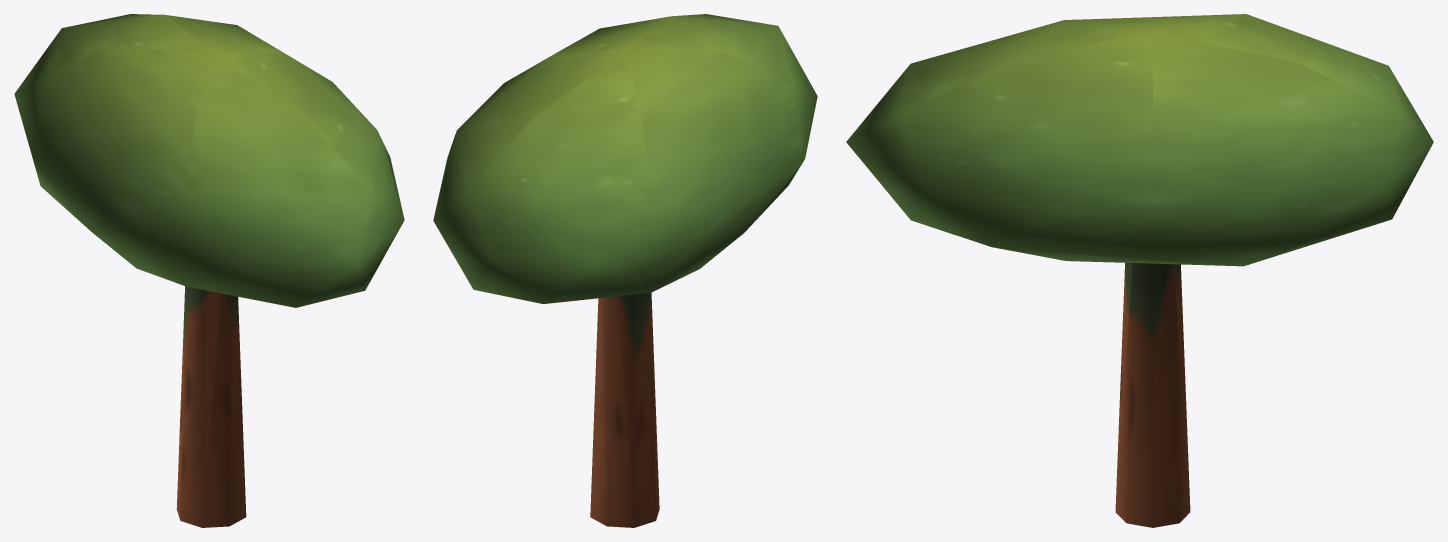
The model's file is nature_leaf_tree.3.glb.
3 renders of one model, left to right at view 1: azimuth 30°, elevation 25°; view 2: azimuth 150°, elevation 25°; view 3: azimuth 270°, elevation 25°, orthographic. The views are drawn at different scales.
Parts seen in each view (by area): view 1: nature_leaf_tree.3; view 2: nature_leaf_tree.3; view 3: nature_leaf_tree.3.
Boxes of the visible parts, x1,y1,x2,y2 form: nature_leaf_tree.3: [14, 14, 404, 527]; nature_leaf_tree.3: [433, 14, 817, 527]; nature_leaf_tree.3: [846, 14, 1433, 527].
Bounding box in the file's own units: 0.5534 × 0.9016 × 1.
Materials: 1 (1 with a texture image).
